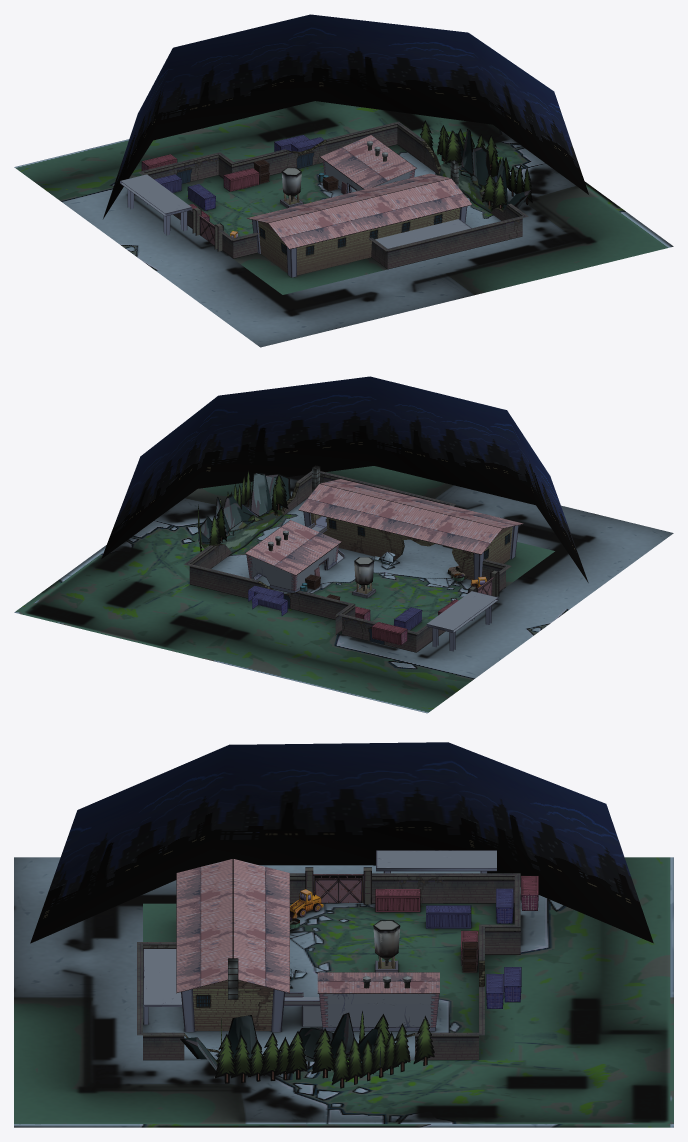
The model's file is arena.FBX.
3 renders of one model, top to bottom at view 1: azimuth 30°, elevation 25°; view 2: azimuth 150°, elevation 25°; view 3: azimuth 270°, elevation 25°, orthographic. The views are drawn at different scales.
Parts seen in each view (by area): view 1: floor_01, sky, house_07, house_10, wall_08, house_02, wall_05, hill, floor_04, wall_04, floor_03, wall_06 (+8 smaller); view 2: floor_01, sky, house_07, hill, house_02, house_08, wall_05, floor_04, wall_04, house_01, wall_01, jerrican_08 (+6 smaller); view 3: floor_01, sky, house_07, wall_01, tree_03, house_05, house_06, tree_06, hill, floor_04, house_02, floor_03 (+14 smaller).
Boxes of the visible parts, <box> form: floor_01: <box>14,101,673,347</box>; sky: <box>103,14,588,218</box>; house_07: <box>247,173,472,249</box>; house_10: <box>297,208,460,275</box>; wall_08: <box>386,216,527,269</box>; house_02: <box>320,135,416,189</box>; wall_05: <box>232,121,398,175</box>; hill: <box>435,129,531,212</box>; floor_04: <box>120,174,191,216</box>; wall_04: <box>138,152,219,183</box>; floor_03: <box>375,219,471,248</box>; wall_06: <box>397,122,441,174</box>; floor_01: <box>14,466,673,713</box>; sky: <box>101,376,588,582</box>; house_07: <box>298,479,523,554</box>; hill: <box>198,473,290,556</box>; house_02: <box>245,520,341,575</box>; house_08: <box>310,513,473,579</box>; wall_05: <box>184,564,354,619</box>; floor_04: <box>426,591,498,632</box>; wall_04: <box>337,614,417,652</box>; house_01: <box>246,554,295,592</box>; wall_01: <box>416,566,511,652</box>; jerrican_08: <box>352,557,375,598</box>; floor_01: <box>14,857,673,1127</box>; sky: <box>30,742,653,943</box>; house_07: <box>176,858,289,993</box>; wall_01: <box>290,867,520,904</box>; tree_03: <box>214,1028,334,1083</box>; house_05: <box>319,994,439,1031</box>; house_06: <box>193,958,273,1030</box>; tree_06: <box>331,1015,434,1088</box>; hill: <box>180,1012,380,1070</box>; floor_04: <box>376,850,496,871</box>; house_02: <box>317,972,439,993</box>; floor_03: <box>143,949,182,1006</box>.
Bounding box in the file's own units: 105 × 36.42 × 108.
